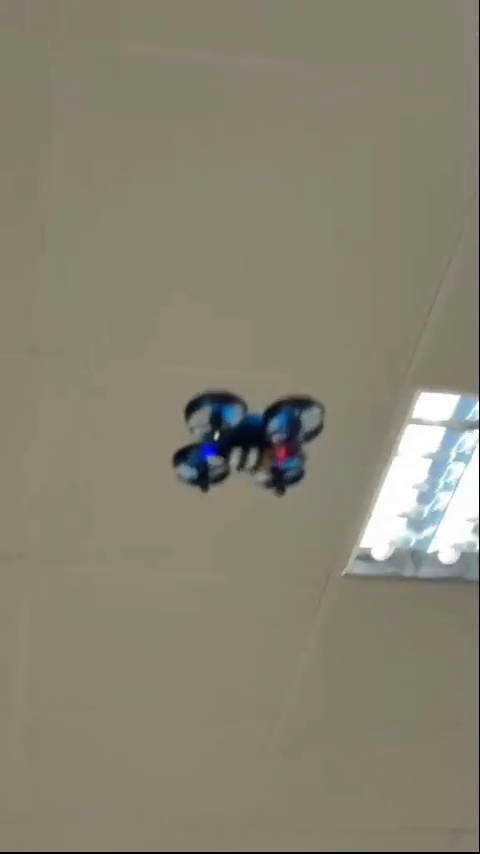drone: (170, 384, 327, 500)
